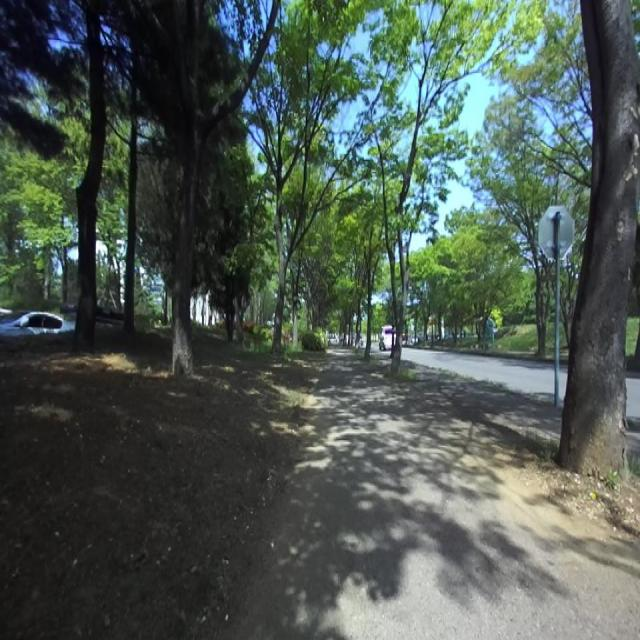sidewalk: (247, 347, 640, 638)
